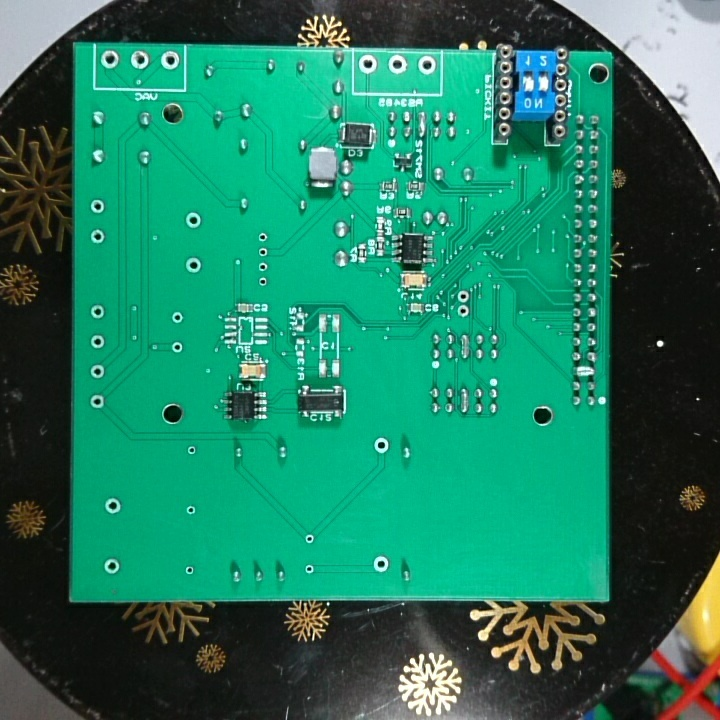F: (385, 52, 410, 77), (355, 53, 379, 77), (96, 47, 119, 72), (128, 47, 150, 72), (158, 50, 181, 72), (370, 554, 391, 577), (103, 495, 124, 518), (370, 434, 390, 458), (101, 557, 123, 578), (416, 55, 436, 78), (184, 211, 204, 234), (87, 303, 108, 322), (87, 362, 109, 380), (184, 253, 201, 275), (89, 332, 108, 351), (454, 301, 473, 320), (89, 197, 107, 217), (87, 391, 104, 412), (89, 229, 106, 247), (454, 289, 474, 304), (170, 338, 185, 356), (302, 530, 317, 548), (170, 309, 185, 326), (184, 501, 199, 518), (184, 443, 199, 459), (255, 229, 269, 246), (184, 563, 197, 580), (256, 258, 270, 273), (256, 274, 269, 289), (303, 561, 315, 577), (257, 245, 270, 259)
P: (415, 109, 429, 140), (571, 364, 597, 380), (458, 383, 470, 417), (458, 332, 470, 361)
